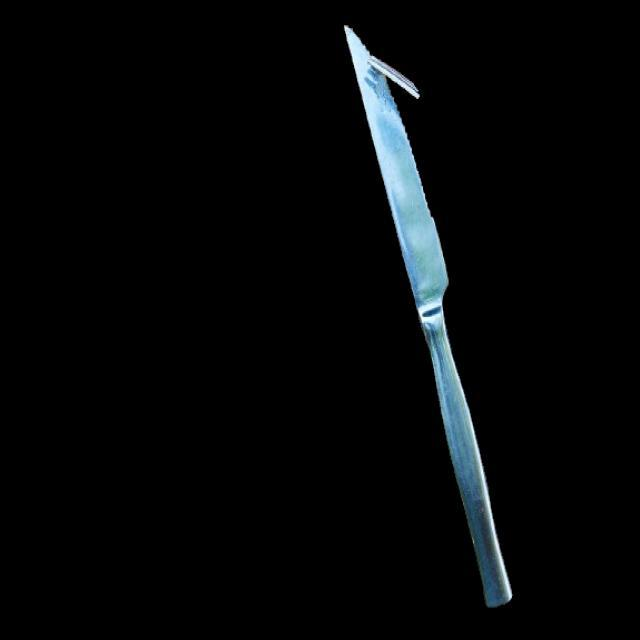knife: (346, 18, 516, 618)
